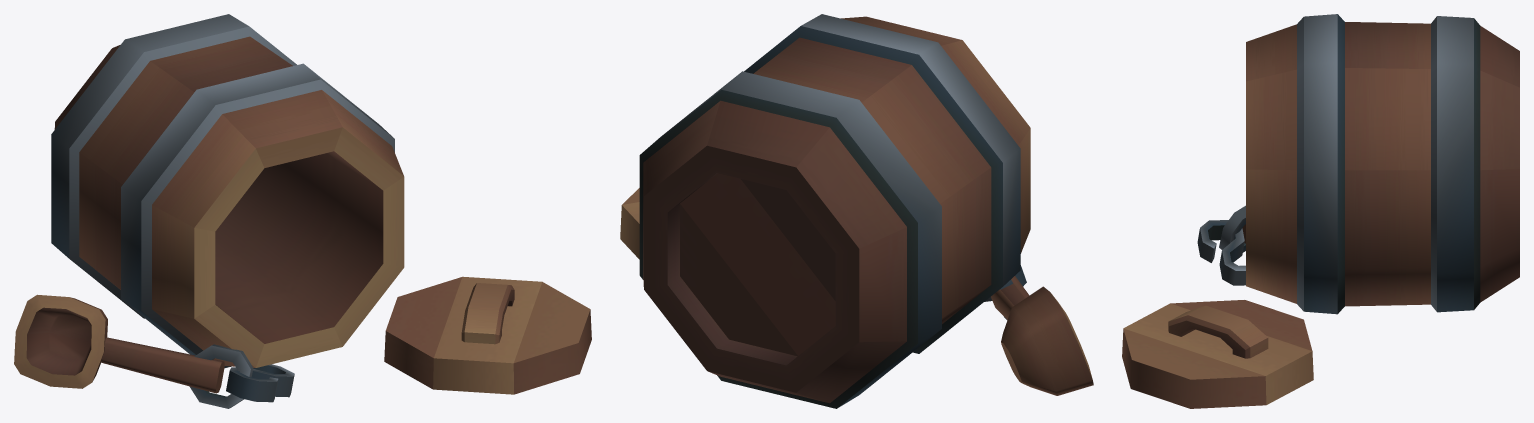
Rendered from barrel_lying_empty.fbx.
3 views of the same model, side by side, from view 1: azimuth 30°, elevation 25°; view 2: azimuth 150°, elevation 25°; view 3: azimuth 270°, elevation 25° (orthographic). The views are drawn at different scales.
Visible parts, largest first — view 1: barrel_lying_empty; view 2: barrel_lying_empty; view 3: barrel_lying_empty.
Part boxes in pixels (x1,y1,x2,y2): barrel_lying_empty: (14,14,591,408); barrel_lying_empty: (620,14,1093,408); barrel_lying_empty: (1122,14,1519,408).
Bounding box in the file's own units: 175 × 94.34 × 133.
